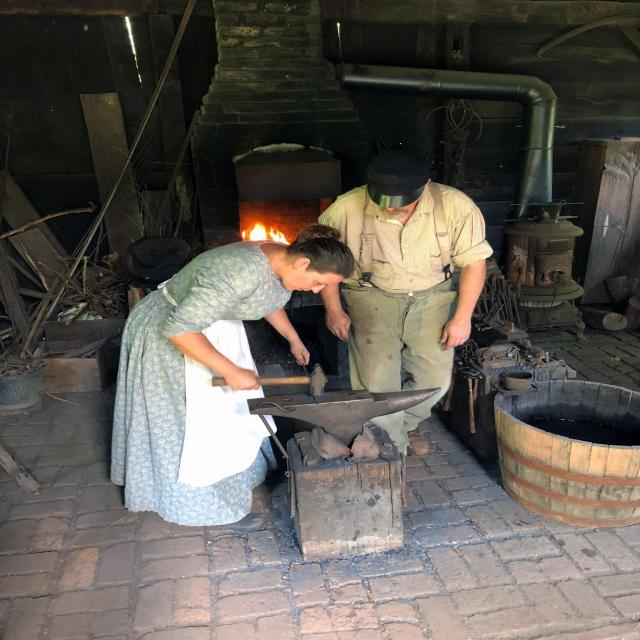hammer: (202, 358, 353, 404)
